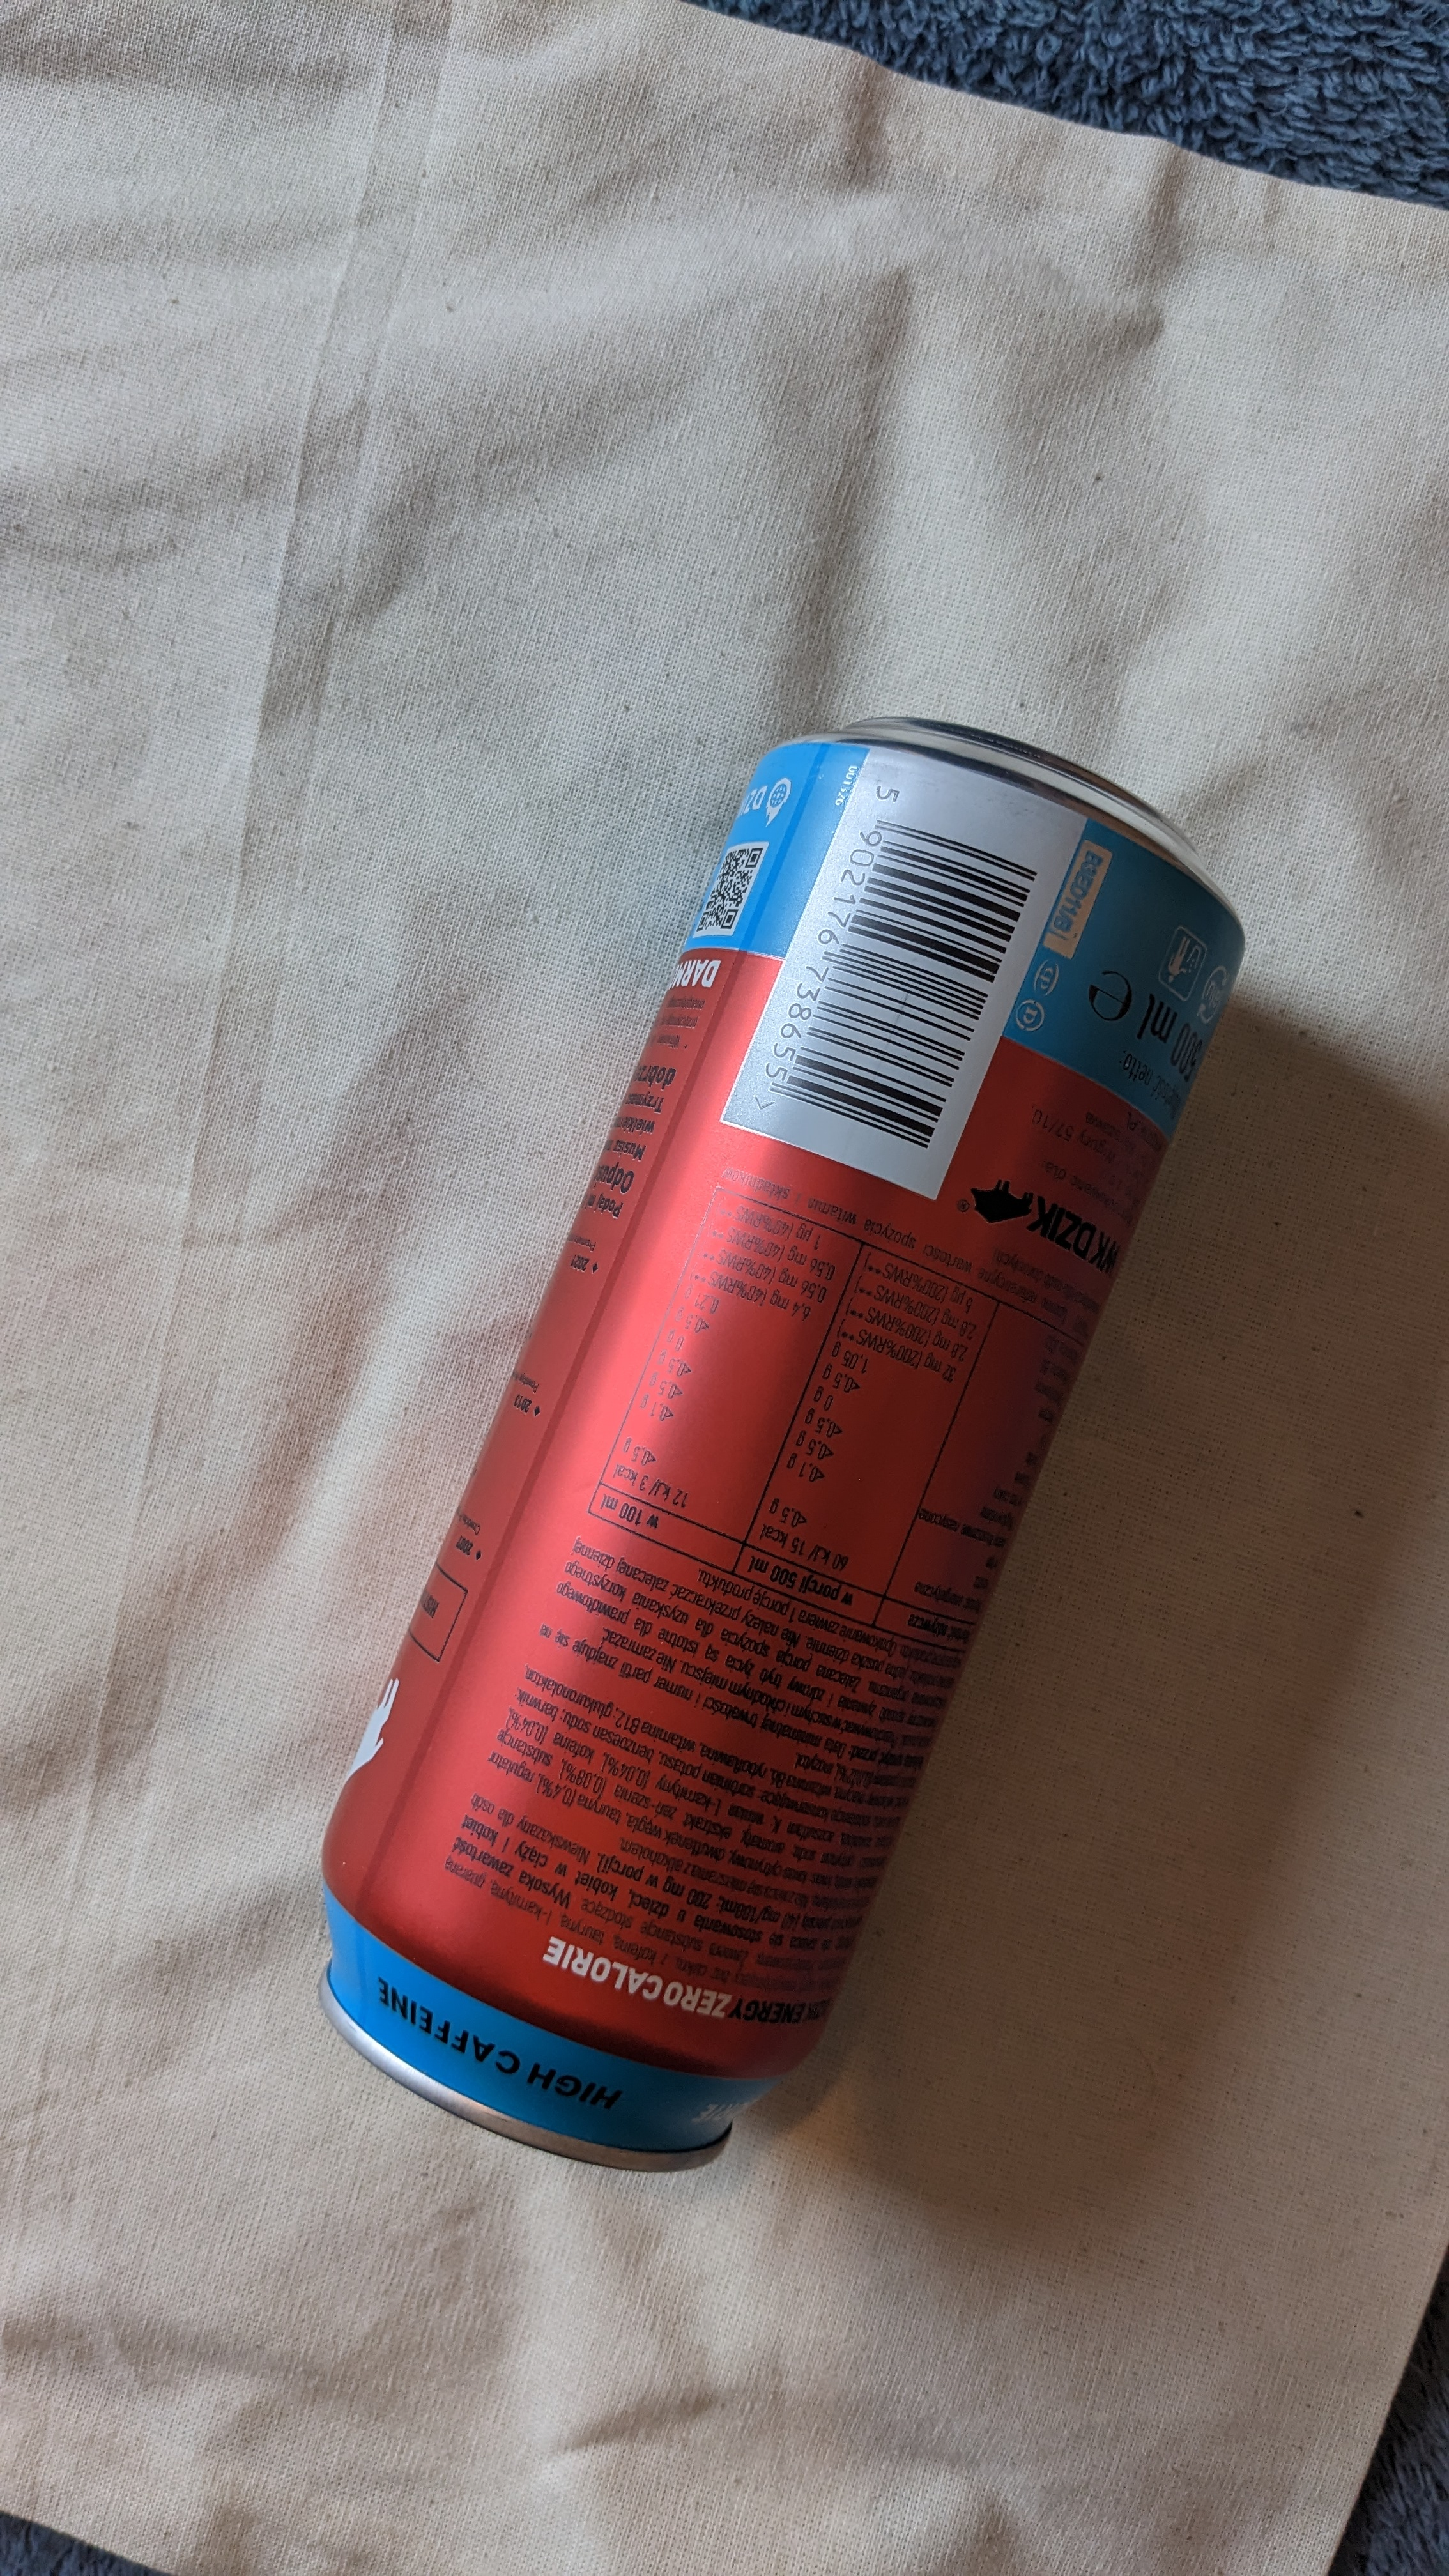dzik: (290, 695, 1256, 2215)
